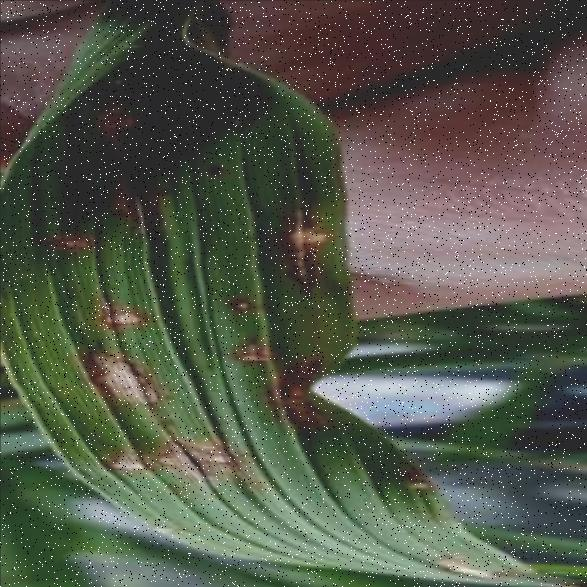Leaf_smut: (146, 427, 268, 493), (73, 334, 157, 415), (106, 154, 174, 250), (266, 348, 331, 448), (274, 180, 335, 286), (90, 80, 170, 152), (22, 220, 118, 278), (90, 427, 154, 493), (68, 288, 155, 332), (212, 284, 276, 330), (231, 328, 291, 372), (388, 454, 442, 491)
